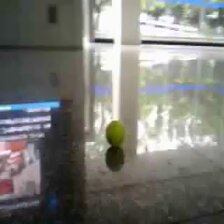tennis: (105, 120, 126, 147)
